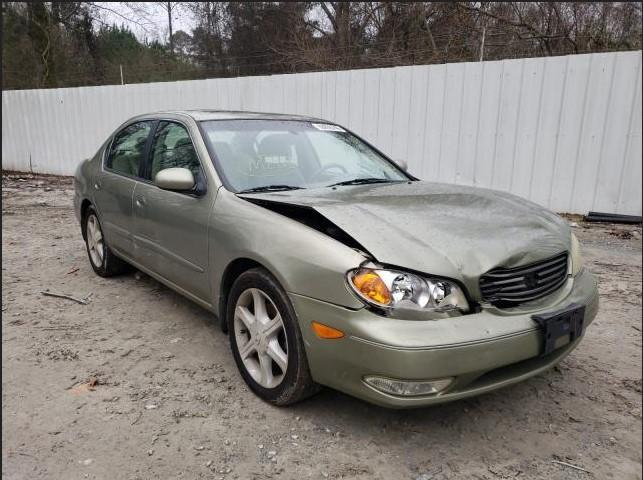Back-bumper: (73, 194, 83, 222)
Back-door: (91, 119, 156, 260)
Back-wheel: (83, 205, 138, 278)
Back-window: (104, 120, 155, 177)
Fender: (208, 185, 366, 310)
Front-bumper: (288, 265, 600, 408)
Front-door: (132, 119, 215, 304)
Front-wheel: (227, 267, 321, 407)
Front-window: (146, 120, 207, 197)
Grille: (479, 251, 569, 308)
Headlight: (345, 261, 469, 321), (571, 231, 582, 276)
Hood: (235, 181, 574, 310)
License-plate: (534, 303, 586, 356)
Mirror: (154, 168, 203, 191), (392, 159, 407, 172)
Quarter-panel: (75, 160, 95, 207)
Rocker-panel: (106, 244, 219, 318)
Roof: (143, 109, 338, 125)
Windshield: (196, 119, 415, 193)
